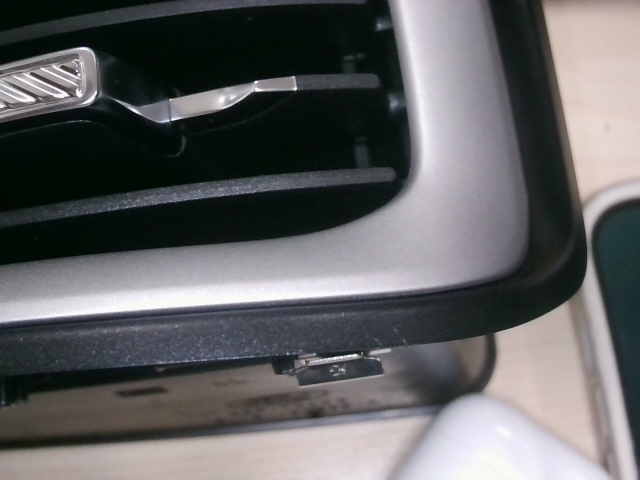NG: (372, 326, 417, 352)
